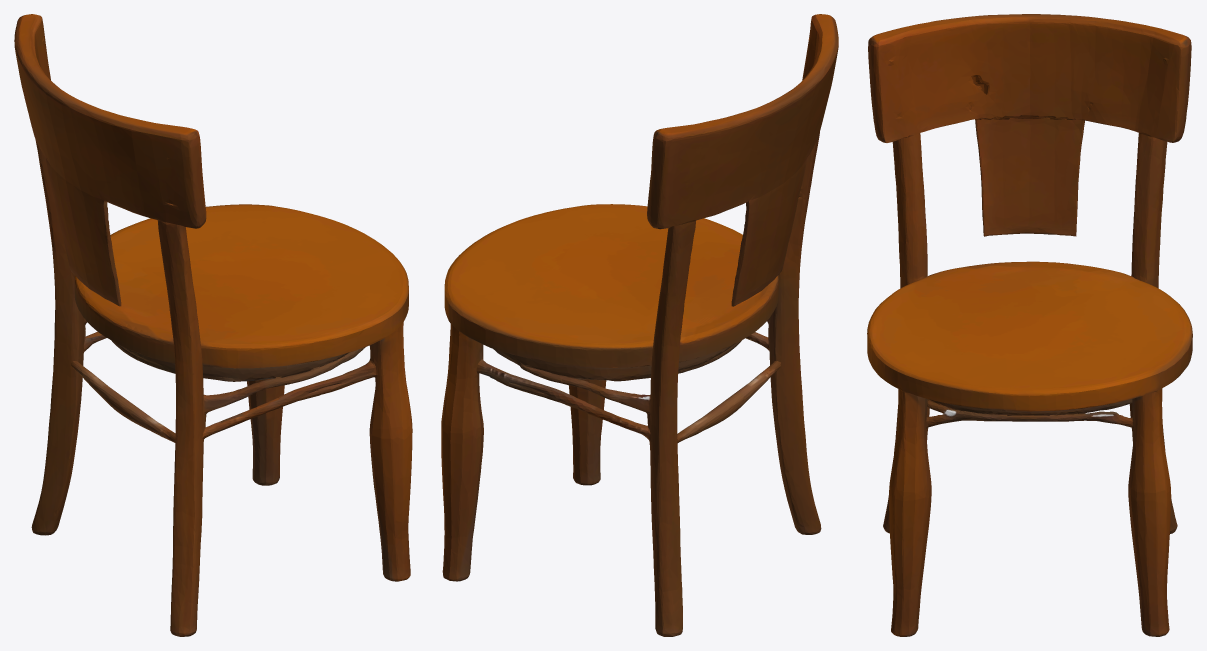
File: dining_chair_6.obj
The picture shows the model from 3 angles, left to right: view 1: azimuth 30°, elevation 25°; view 2: azimuth 150°, elevation 25°; view 3: azimuth 270°, elevation 25°; orthographic projection. The views are drawn at different scales.
Size of the model in its own units: 0.6332 by 0.925 by 0.5571.
1 material, 1 textured.
